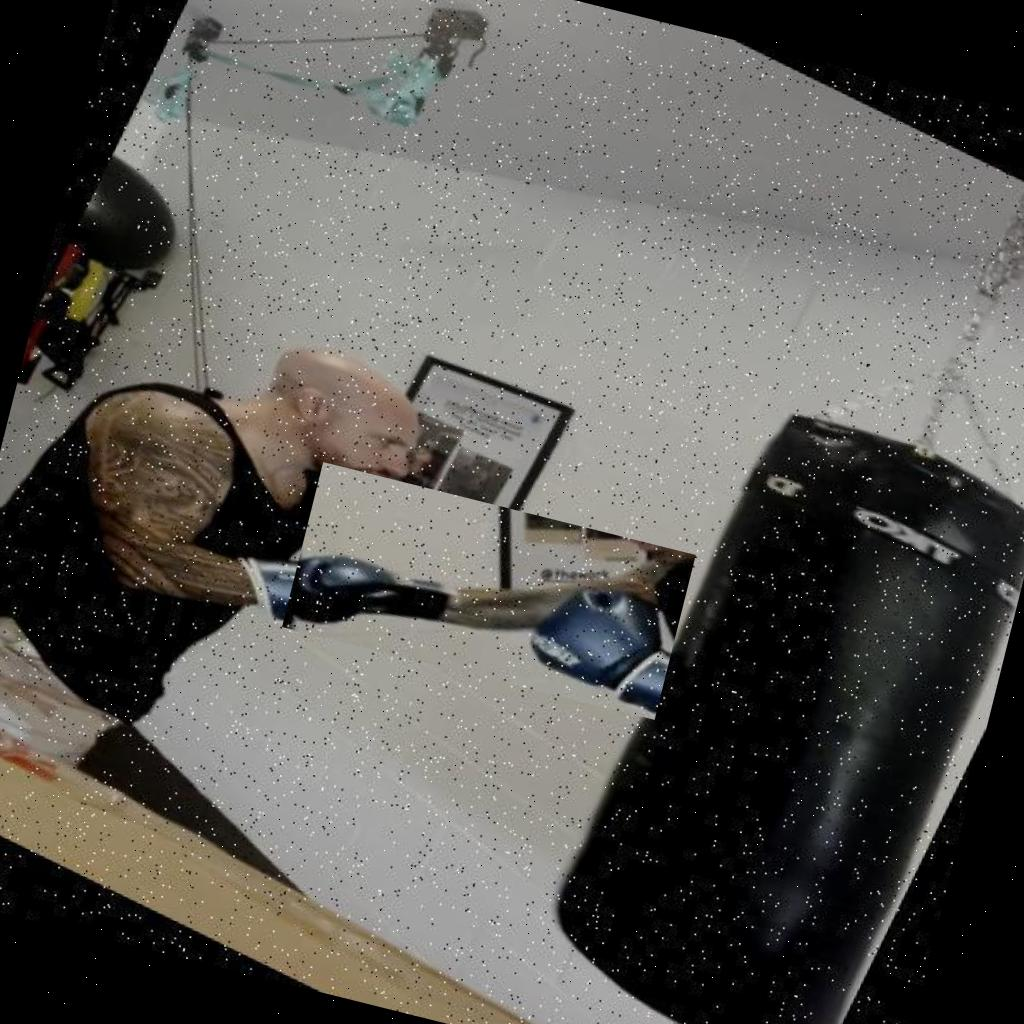bag: (481, 349, 1024, 1024)
cross: (282, 462, 696, 720)
